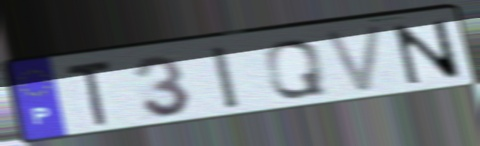3: (130, 51, 195, 120)
I: (207, 43, 244, 113)
N: (389, 17, 467, 87)
Q: (262, 37, 330, 100)
T: (62, 58, 116, 130)
V: (319, 21, 387, 97)
